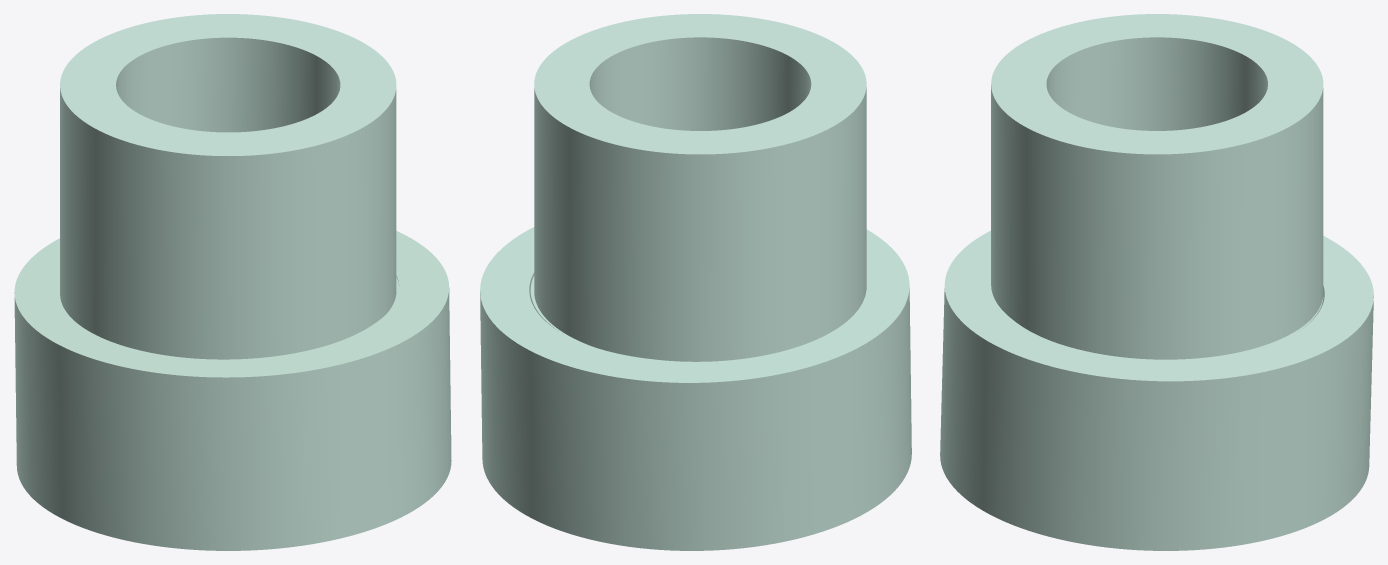
3 views of the same model, side by side, from view 1: azimuth 30°, elevation 25°; view 2: azimuth 150°, elevation 25°; view 3: azimuth 270°, elevation 25° (orthographic).
Parts seen in each view (by area): view 1: Renderer Node; view 2: Renderer Node; view 3: Renderer Node.
Part boxes in pixels (x1,y1,x2,y2): Renderer Node: (14,14,451,550); Renderer Node: (480,14,911,550); Renderer Node: (940,14,1373,550).
Bounding box in the file's own units: 1.4 × 1.36 × 1.41.
